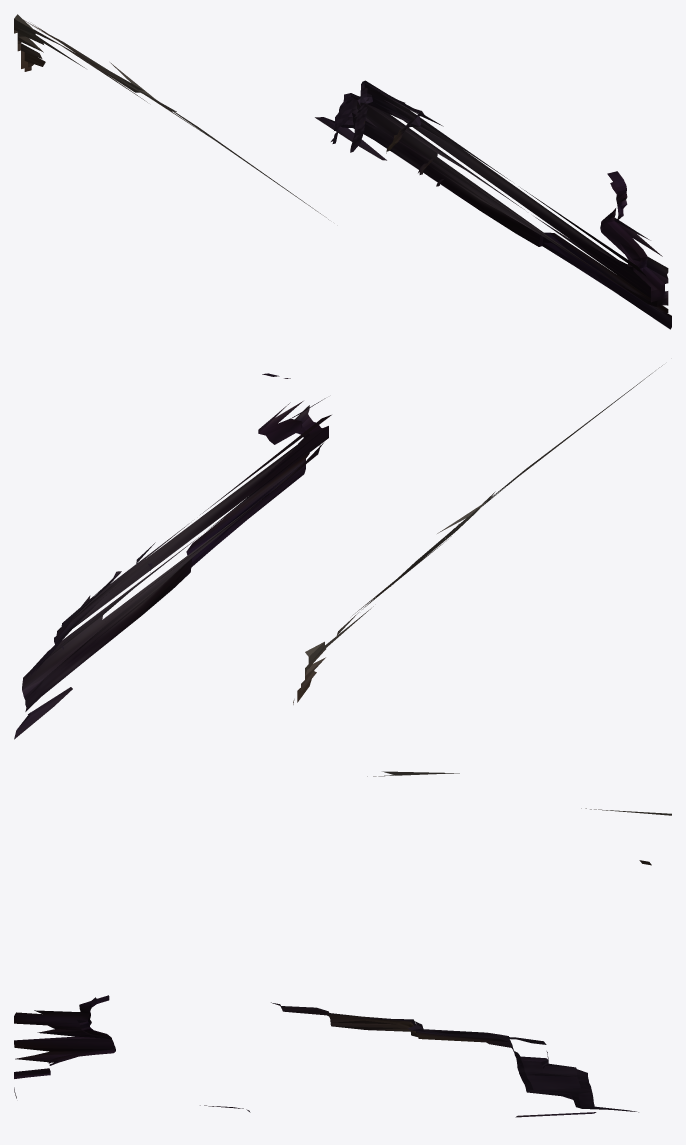
The model's file is frame_00288.glb.
The picture shows the model from 3 angles, top to bottom: view 1: azimuth 30°, elevation 25°; view 2: azimuth 150°, elevation 25°; view 3: azimuth 270°, elevation 25°; orthographic projection. The views are drawn at different scales.
Visible parts, largest first — view 1: geometry_0; view 2: geometry_0; view 3: geometry_0.
Boxes of the visible parts, <box> form: geometry_0: <box>14,14,671,329</box>; geometry_0: <box>14,365,662,739</box>; geometry_0: <box>14,771,671,1117</box>.
Size of the model in its own units: 0.0991 by 0.0522 by 0.16.
Materials: 1 (1 with a texture image).
